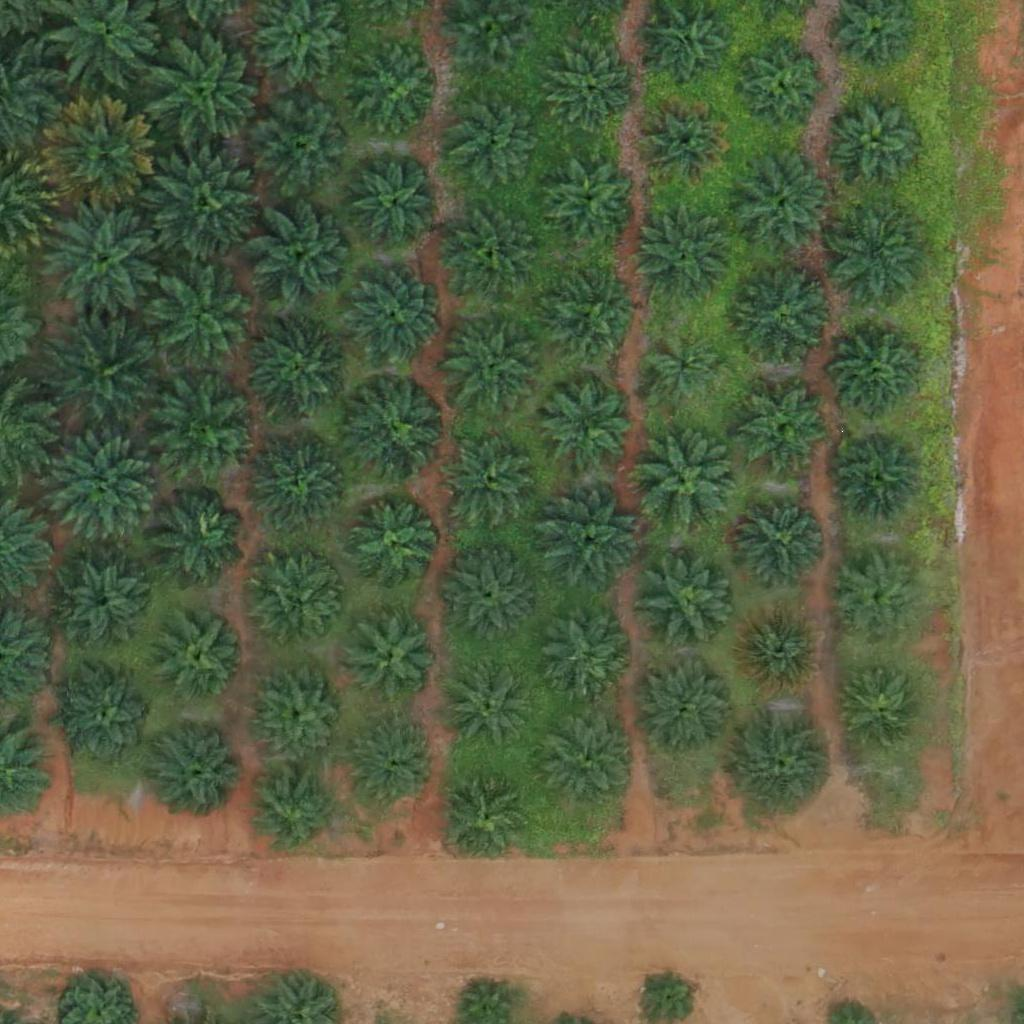Kelapa_Sawit: (45, 437, 158, 551), (147, 265, 260, 378), (43, 98, 156, 211), (45, 199, 158, 312), (42, 317, 155, 430), (153, 34, 265, 147), (146, 147, 258, 260), (640, 432, 740, 533), (540, 152, 640, 253), (541, 268, 641, 369), (539, 492, 639, 593), (446, 88, 546, 189), (443, 205, 543, 306), (442, 314, 542, 415), (441, 431, 541, 532), (439, 547, 539, 648), (342, 265, 442, 366), (347, 378, 447, 479), (252, 96, 352, 197), (250, 205, 350, 306), (248, 321, 348, 422), (250, 431, 350, 532), (158, 375, 258, 476), (536, 705, 636, 806), (638, 553, 738, 654), (636, 657, 736, 758), (735, 711, 835, 812), (825, 202, 925, 302), (730, 154, 830, 254), (732, 268, 832, 368), (635, 206, 735, 306), (147, 487, 247, 587), (58, 668, 158, 768), (150, 719, 250, 819), (252, 665, 352, 765), (835, 97, 923, 185), (742, 384, 830, 472), (736, 494, 824, 582), (549, 44, 637, 132), (349, 502, 437, 590), (55, 560, 143, 648), (349, 615, 437, 703), (351, 721, 439, 809), (447, 661, 535, 749), (444, 771, 532, 859), (736, 605, 824, 693), (841, 668, 929, 756), (645, 1, 732, 89), (835, 334, 922, 422), (836, 431, 923, 519), (835, 557, 922, 645), (737, 40, 824, 128), (641, 98, 728, 186), (544, 380, 631, 468), (349, 47, 436, 135), (352, 162, 439, 250), (255, 561, 342, 649), (158, 611, 245, 699), (252, 768, 339, 856), (551, 608, 638, 696), (647, 334, 722, 410)
